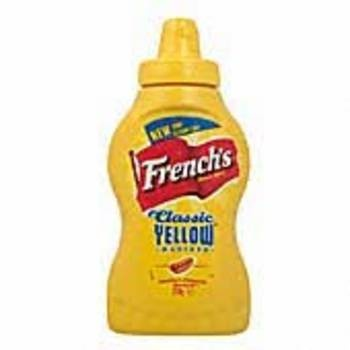grozi_40: (104, 15, 251, 338)
